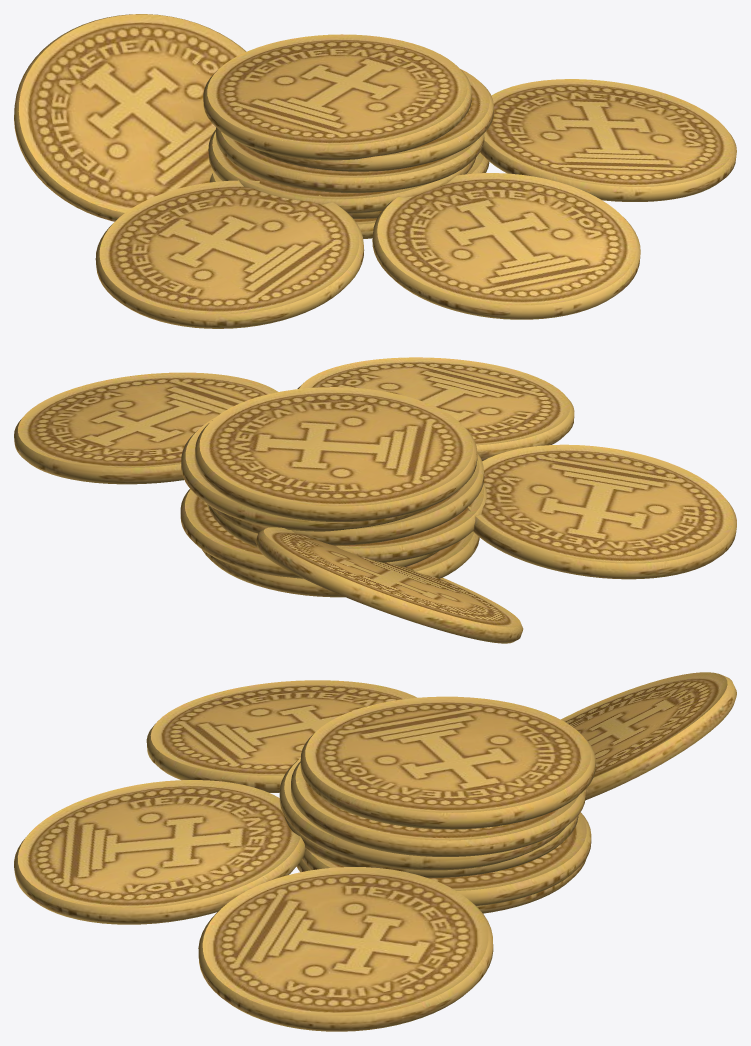
The model's file is gold_coin.glb.
The picture shows the model from 3 angles, top to bottom: view 1: azimuth 30°, elevation 25°; view 2: azimuth 150°, elevation 25°; view 3: azimuth 270°, elevation 25°; orthographic projection. The views are drawn at different scales.
Parts seen in each view (by area): view 1: gold_coin; view 2: gold_coin; view 3: gold_coin.
Part boxes in pixels (box(x1,y1,x2,y2)): gold_coin: box(14, 14, 736, 328); gold_coin: box(14, 357, 736, 643); gold_coin: box(14, 672, 736, 1031).
Size of the model in its own units: 0.0568 by 0.0101 by 0.0515.
Materials: 1 (1 with a texture image).
